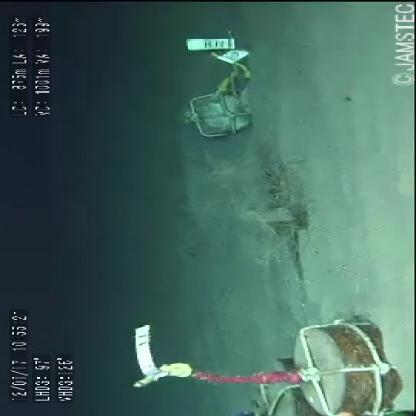Rác: (200, 162, 318, 268)
